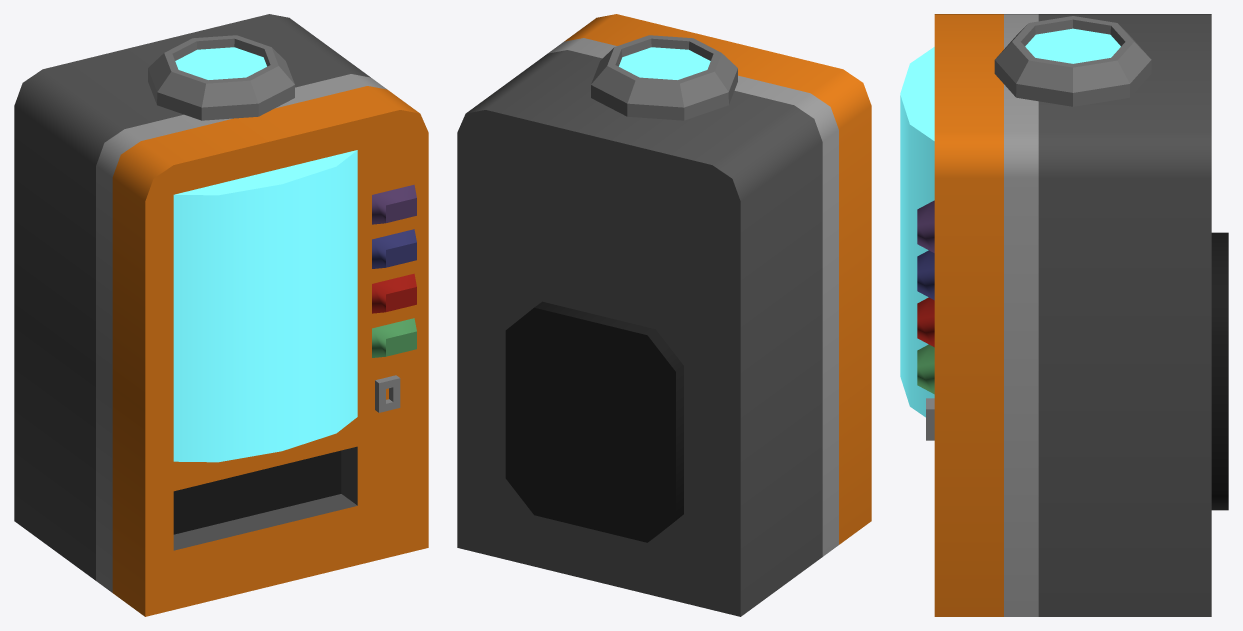
Rendered from VendingMachine.glb.
3 renders of one model, left to right at view 1: azimuth 30°, elevation 25°; view 2: azimuth 150°, elevation 25°; view 3: azimuth 270°, elevation 25°, orthographic. The views are drawn at different scales.
Parts seen in each view (by area): view 1: vending-machine.001, Emitter; view 2: vending-machine.001, Emitter; view 3: vending-machine.001, Emitter.
Boxes of the visible parts, x1,y1,x2,y2 form: vending-machine.001: [14, 14, 428, 616]; Emitter: [148, 35, 294, 120]; vending-machine.001: [457, 14, 871, 616]; Emitter: [591, 35, 737, 120]; vending-machine.001: [900, 14, 1228, 616]; Emitter: [994, 16, 1151, 106].
Bounding box in the file's own units: 0.5 × 0.8008 × 0.475.
